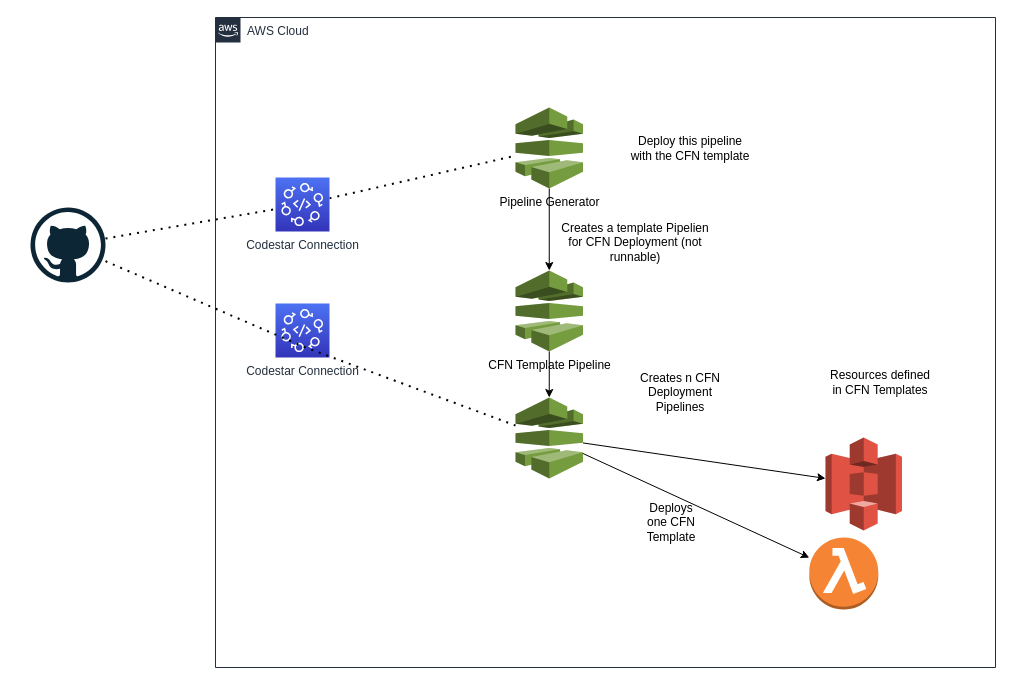
Image size: 1013x685. Some labels were removed from this diagram. The shapes that lost their labels are listed below. From the top down, each one's box as (x1, y1, x2, y2) in pixels, then its label:
(30, 206, 106, 282): Git CFN Templates
(514, 396, 583, 478): n CFN Pipelines
